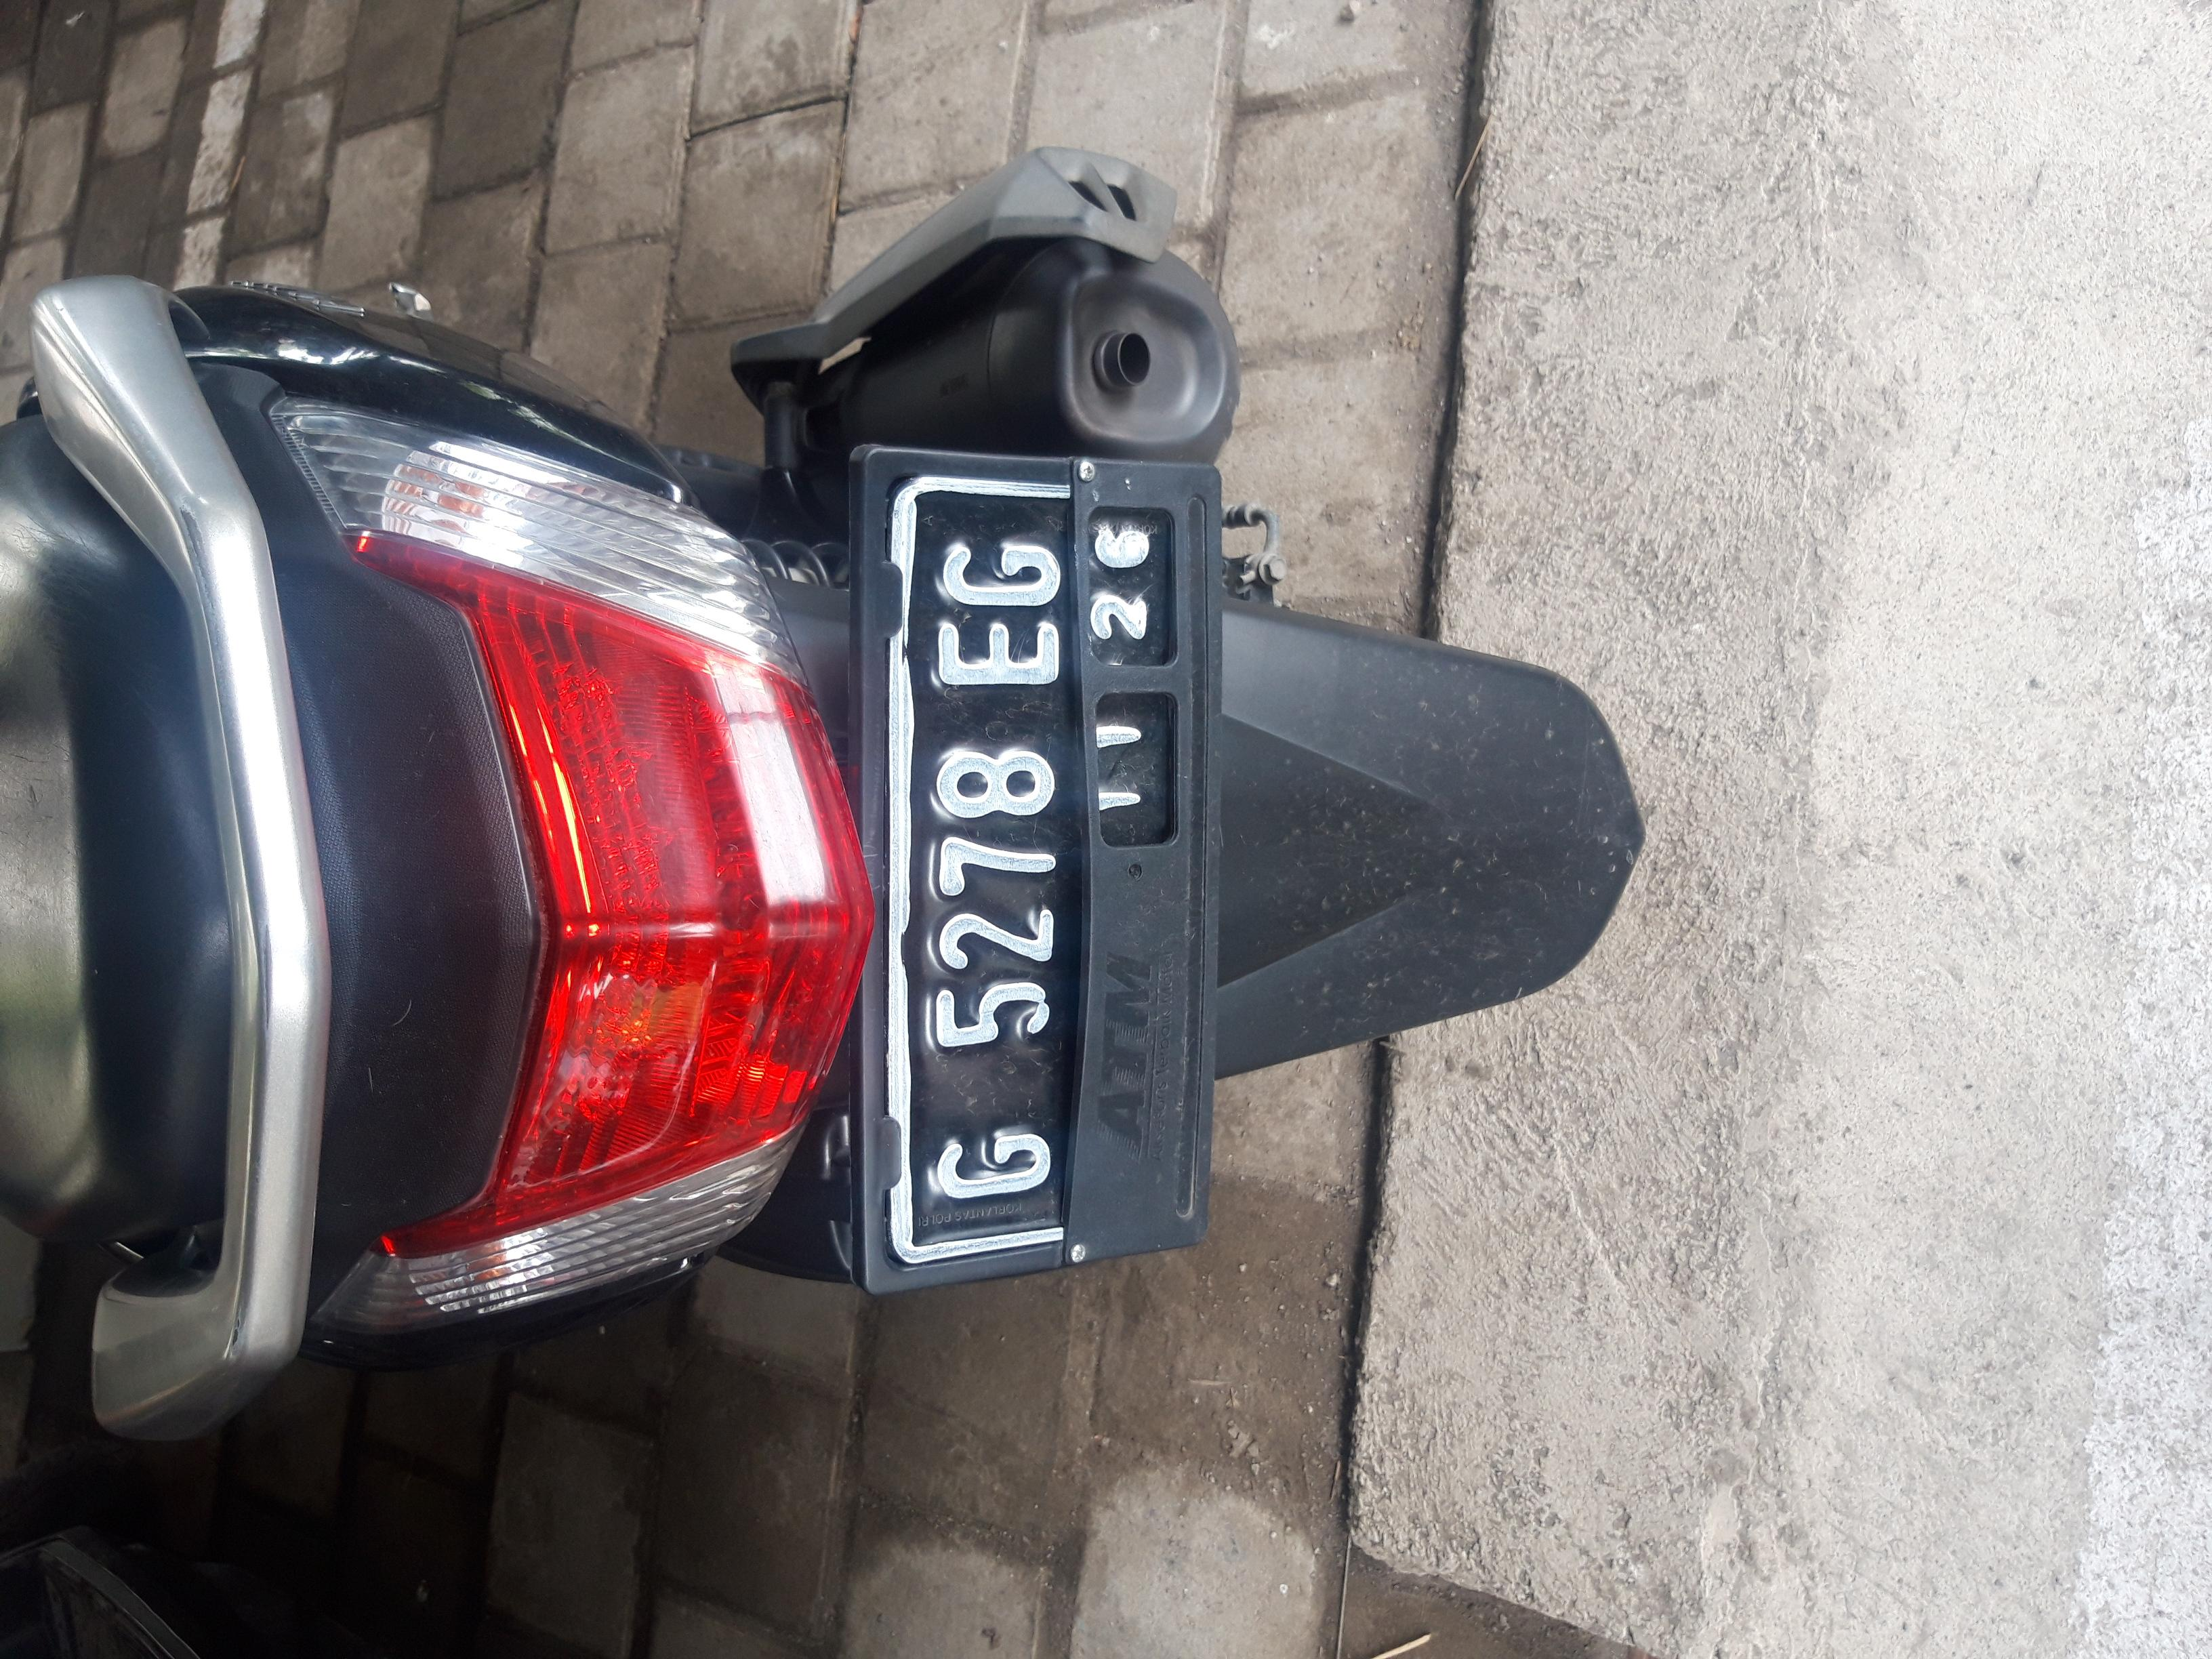plat: (489, 642, 1618, 917)
